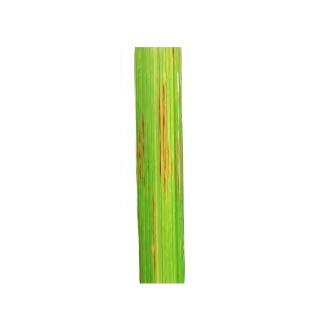Bercak-Cokelat-Sempit: (158, 77, 171, 194), (148, 194, 161, 273), (135, 114, 149, 184), (176, 127, 181, 200), (167, 47, 179, 68)
